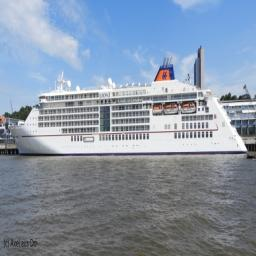cruises: (7, 57, 250, 162)
